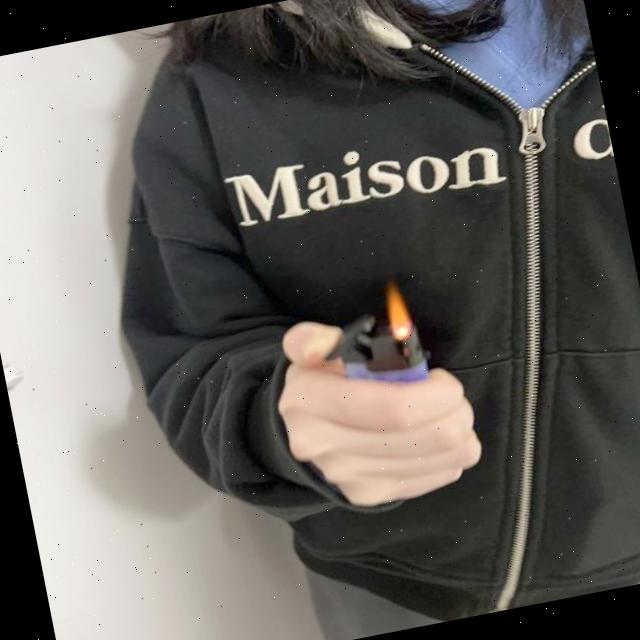fire: (380, 284, 418, 335)
